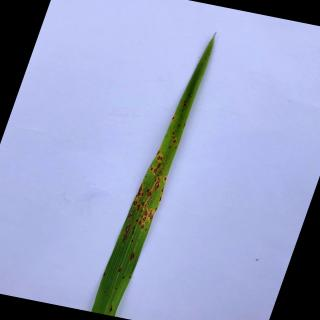Blast: (122, 224, 132, 244), (153, 162, 162, 175), (128, 251, 136, 261), (154, 180, 160, 190), (148, 209, 154, 217), (182, 100, 188, 107), (109, 305, 113, 313), (171, 139, 177, 144), (147, 192, 152, 198), (130, 230, 136, 235), (138, 185, 142, 192), (144, 210, 148, 217), (163, 175, 167, 182), (159, 156, 164, 161), (141, 201, 146, 206), (128, 213, 133, 218), (172, 130, 176, 136), (156, 149, 160, 155), (150, 166, 154, 172), (158, 196, 162, 202), (130, 238, 134, 244), (137, 192, 141, 197), (133, 201, 138, 205), (146, 188, 150, 193), (140, 224, 144, 229), (144, 203, 148, 208), (137, 204, 140, 210), (161, 187, 164, 193), (150, 214, 153, 220), (157, 156, 161, 160), (135, 218, 139, 222), (154, 207, 158, 211), (132, 226, 136, 230), (144, 228, 148, 232), (143, 217, 146, 222), (183, 123, 186, 128), (141, 192, 144, 196), (118, 268, 121, 272), (122, 276, 125, 280), (103, 272, 106, 276), (139, 220, 141, 225), (157, 177, 160, 180), (141, 215, 144, 218), (172, 116, 174, 120), (129, 275, 131, 279), (141, 209, 143, 213), (115, 287, 117, 290)
